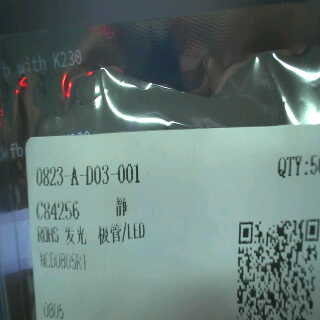LED: (59, 218, 147, 248)
